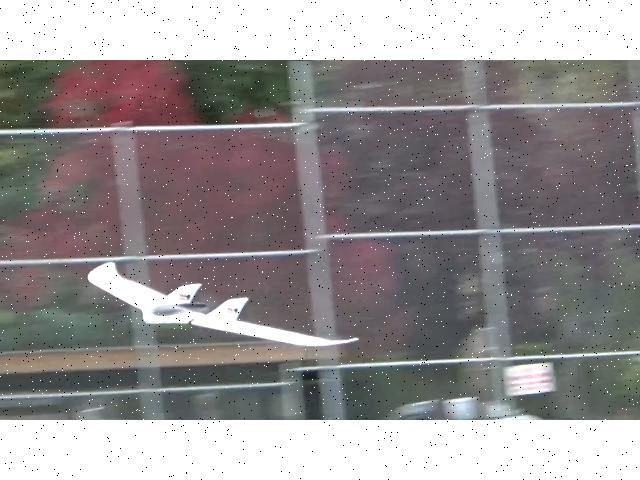Anti-Drone: (89, 262, 359, 346)
